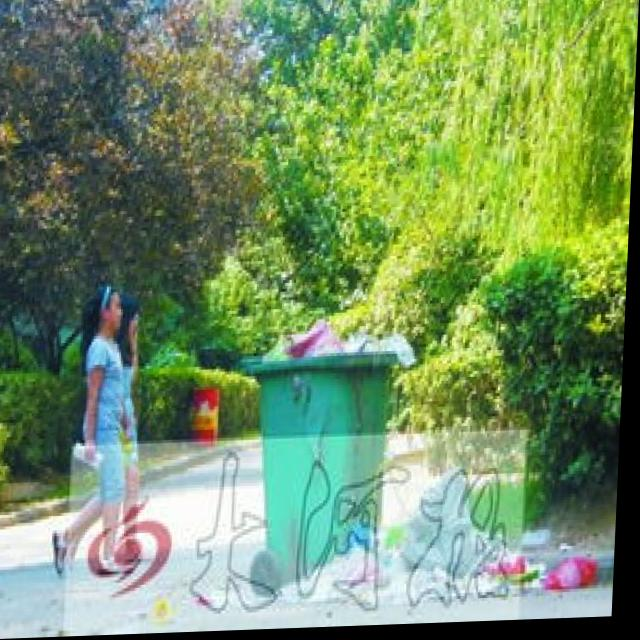garbage: (488, 553, 602, 599)
overflow: (232, 313, 420, 578)
